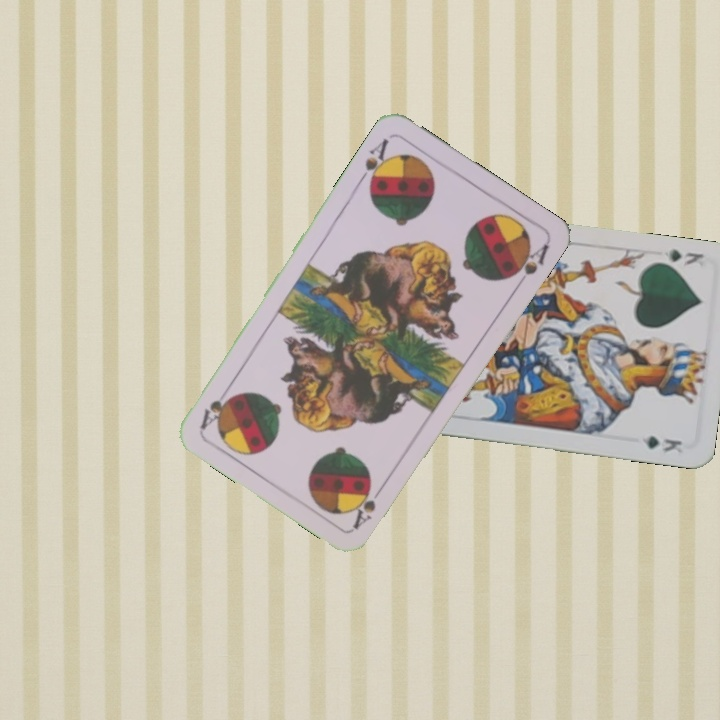GK: (659, 245, 707, 269)
SA: (354, 133, 395, 192), (348, 479, 388, 532)
